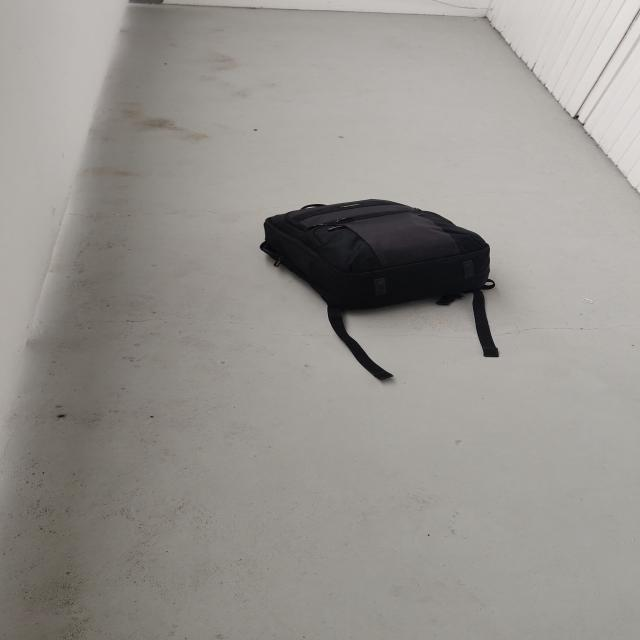backpack: (249, 194, 501, 320)
